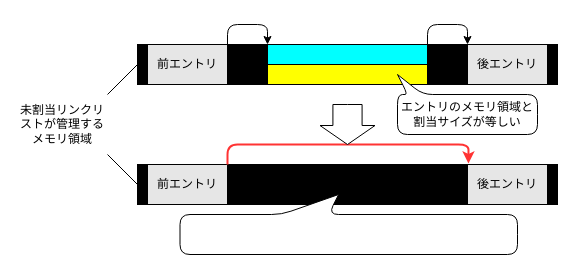
Image size: 575x273. Some labels were removed from this diagram. Each missing label, with the centre of its shape:
エントリ: the point at 347,54
エントリを未割当リンクリストから削除して、未使用リンクリストに追加し、割当済リンクリストに追加（メモリ領域追加）: the point at 348,224
割当メモリ領域: the point at 347,74
